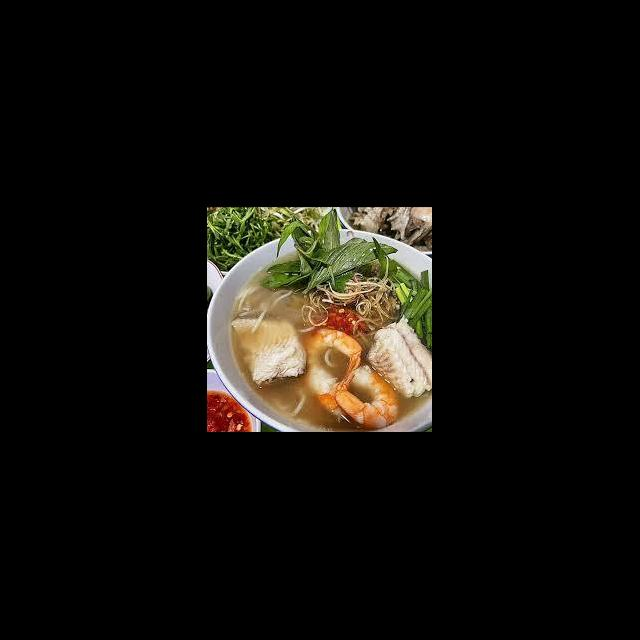ca: (228, 313, 312, 392), (363, 312, 432, 402)
tom: (300, 322, 366, 422), (330, 360, 402, 432)
